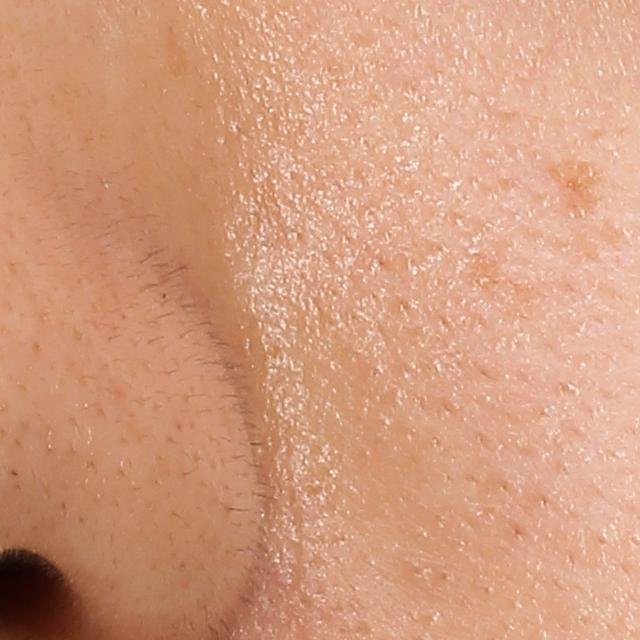comedo: (592, 529, 615, 552)
melasma: (547, 160, 607, 215)
